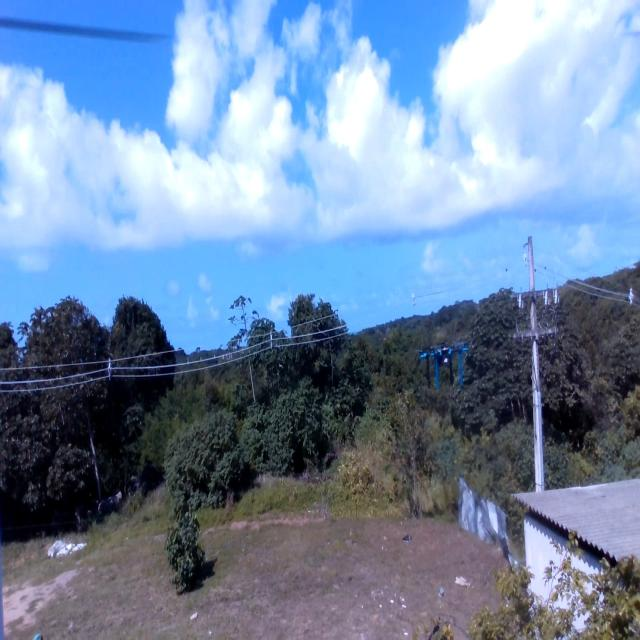-uav-: (415, 328, 473, 404)
